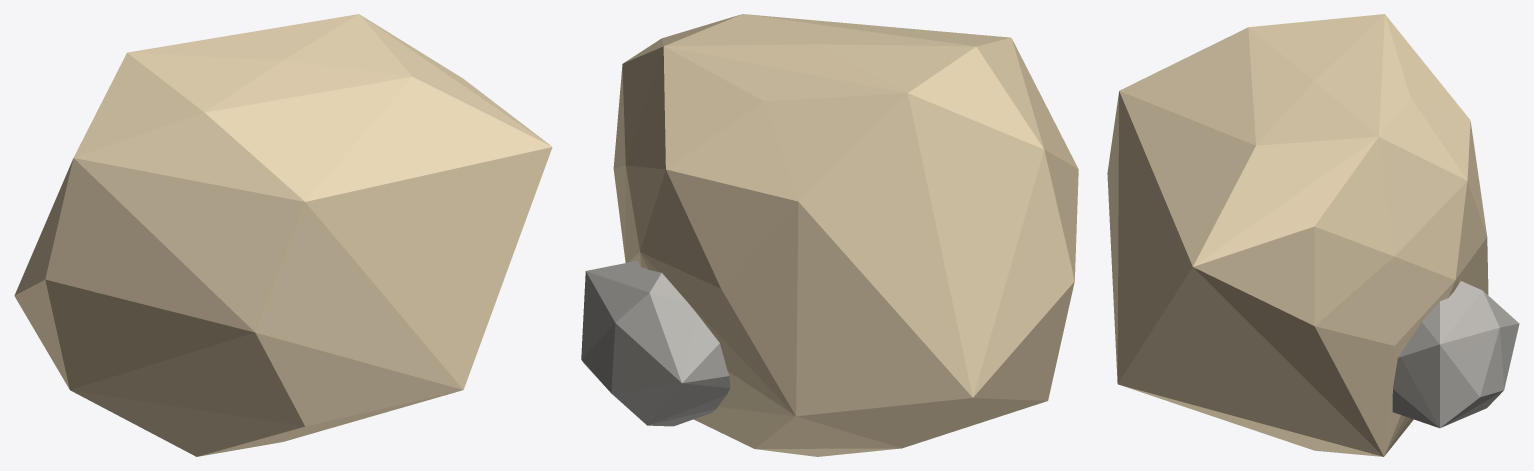
Rendered from rock_c.glb.
3 renders of one model, left to right at view 1: azimuth 30°, elevation 25°; view 2: azimuth 150°, elevation 25°; view 3: azimuth 270°, elevation 25°, orthographic. The views are drawn at different scales.
Visible parts, largest first — view 1: root_m0; view 2: root_m0, root_m1; view 3: root_m0, root_m1.
Part boxes in pixels (<box>): root_m0: <box>14,14,552,456</box>; root_m0: <box>613,14,1078,456</box>; root_m1: <box>581,260,730,426</box>; root_m0: <box>1107,14,1488,456</box>; root_m1: <box>1392,281,1519,428</box>.
Size of the model in its own units: 0.5354 by 0.4511 by 0.4433.
